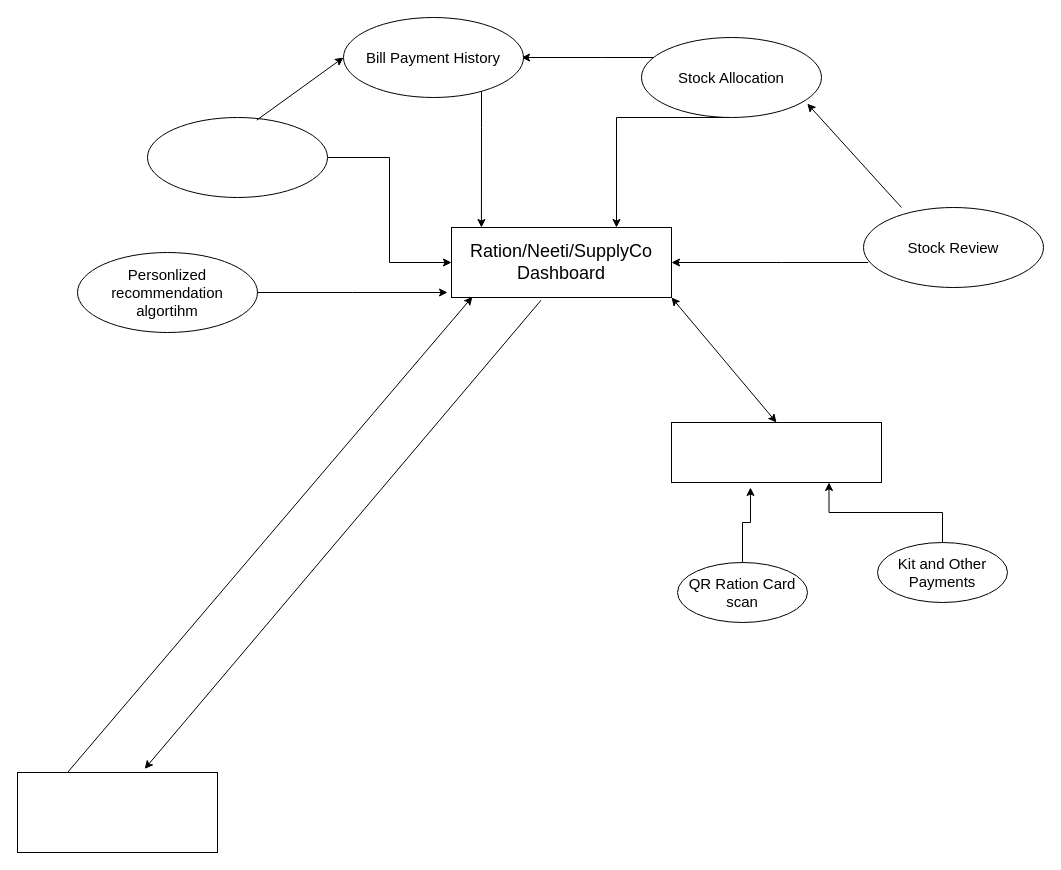
This 1061x870 diagram has some shape labels left out. Here are the shapes that lost their labels. From the top down, the centre of each, then its label:
At (237,157): "Personalized Kit Review System".
At (776,452): "Ration/Neeti/SupplyCo Merchant App".
At (117,812): "Food Suppply Depot Dashboard/Control Pannel".
